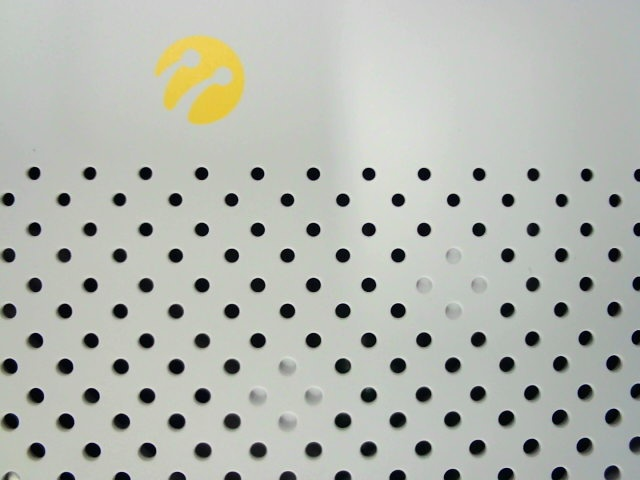AV_H3600Yellow: (146, 27, 257, 134)
